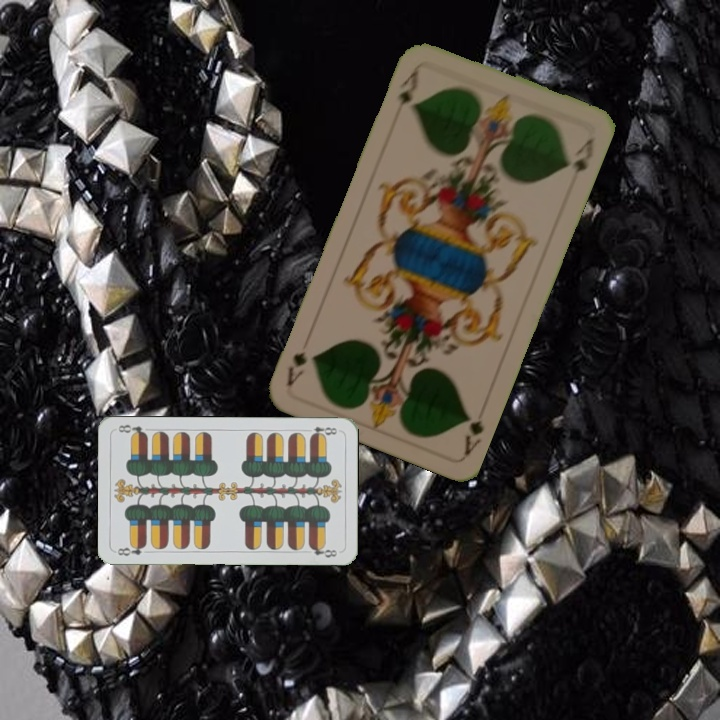E8: (114, 540, 149, 559), (301, 423, 340, 440)
GA: (391, 61, 423, 118), (460, 411, 486, 458)
